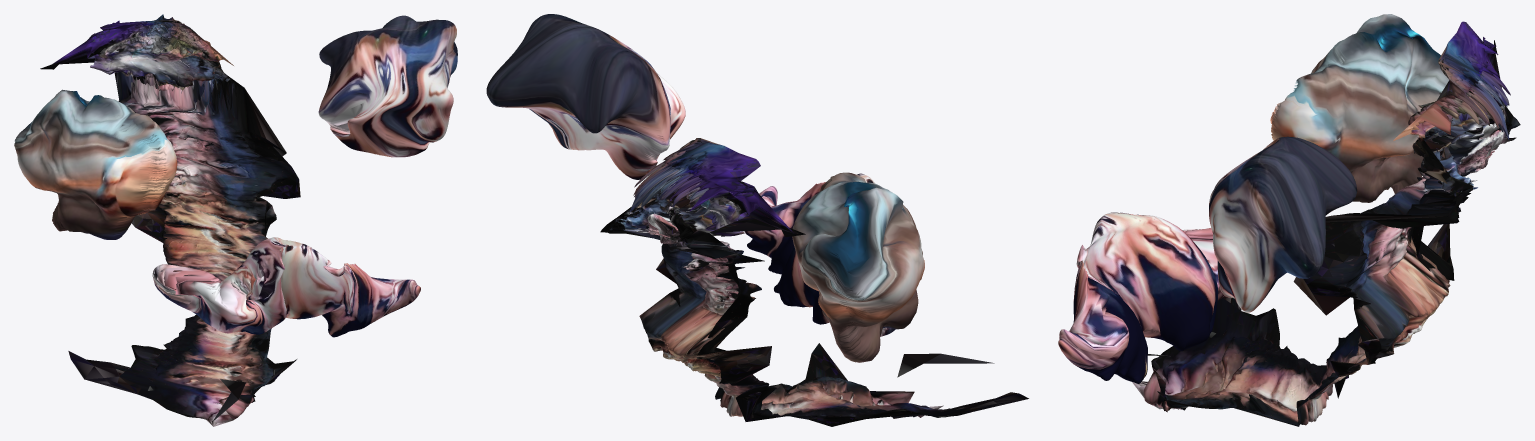
The model's file is betabug.glb.
3 renders of one model, left to right at view 1: azimuth 30°, elevation 25°; view 2: azimuth 150°, elevation 25°; view 3: azimuth 270°, elevation 25°, orthographic. The views are drawn at different scales.
Parts seen in each view (by area): view 1: videotarget, back; view 2: videotarget, back; view 3: videotarget, back.
Part boxes in pixels (x1,y1,x2,y2): videotarget: (14,15,457,337); back: (40,14,300,426); videotarget: (486,14,924,362); back: (600,138,1028,426); videotarget: (1058,14,1449,383); back: (1132,21,1520,426).
Bounding box in the file's own units: 3.13 × 2.2 × 2.4.
2 materials, 2 textured.
